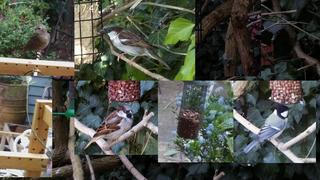great tit: (243, 105, 292, 154)
sparrow: (98, 24, 171, 69), (83, 105, 134, 150)
starling: (18, 24, 50, 60)
